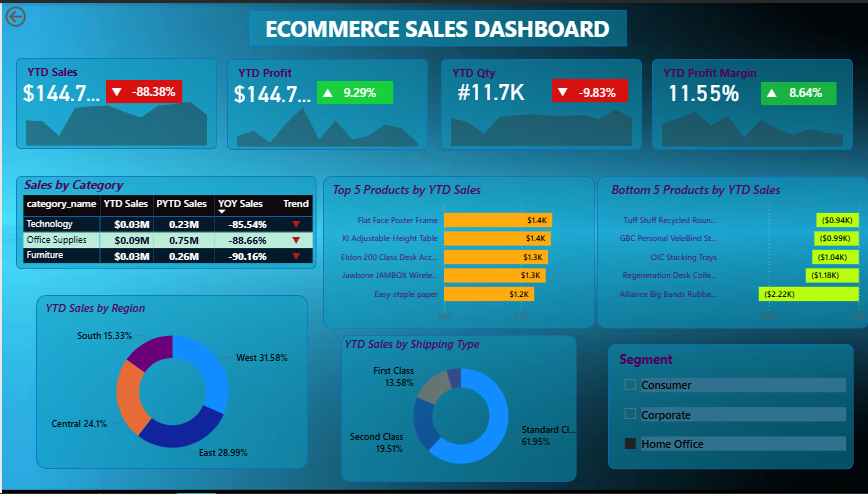

Layout of this report page (visuals, bound fields, positions):
{"tool":"powerbi","page":{"name":"Page 1","canvas":[1280,720],"ordinal":0},"visuals":[{"type":"shape","box":[361.3,10.4,557.5,53.5],"z":0},{"type":"textbox","box":[382.1,10.4,545.6,53.5],"z":1000},{"type":"shape","box":[20.6,80.8,295.3,133.7],"z":2000},{"type":"card","fields":{"Values":["ecommerce_data.YTD Sales"]},"box":[20.6,107.3,132.2,45.6],"z":3000},{"type":"areaChart","fields":{"Category":["Calendar.Month"],"Y":["Sum(ecommerce_data.sales_per_order)"]},"box":[20.6,130.8,295.3,83.8],"z":4000},{"type":"shape","box":[152.8,113.1,111.7,33.8],"z":5000},{"type":"card","fields":{"Values":["ecommerce_data.YOY Sales"]},"box":[180.7,116.1,83.8,30.9],"z":6000},{"type":"card","fields":{"Values":["ecommerce_data.Sales Icon"]},"box":[152.8,114.6,30.9,33.8],"z":7000},{"type":"textbox","box":[32.3,85.2,120.5,30.9],"z":8000},{"type":"shape","box":[330.3,82,295.3,133.7],"z":9000},{"type":"card","fields":{"Values":["ecommerce_data.YTD Profit"]},"box":[330.3,108.4,132.2,45.6],"z":10000},{"type":"areaChart","fields":{"Category":["Calendar.Month"],"Y":["Sum(ecommerce_data.profit_per_order)"]},"box":[330.3,132,295.3,83.8],"z":11000},{"type":"shape","box":[462.6,114.3,111.7,33.8],"z":12000},{"type":"card","fields":{"Values":["ecommerce_data.YOY Profit"]},"box":[490.8,117.6,70.5,30.9],"z":13000},{"type":"card","fields":{"Values":["ecommerce_data.Profit Icon"]},"box":[462.9,116.1,30.9,33.8],"z":14000},{"type":"textbox","box":[342.1,86.4,120.5,30.9],"z":15000},{"type":"shape","box":[644.5,81.7,295.3,133.7],"z":16000},{"type":"card","fields":{"Values":["ecommerce_data.YTD Conacatenated"]},"box":[645.1,108.7,146.9,39.7],"z":17000},{"type":"areaChart","fields":{"Category":["Calendar.Month"],"Y":["Sum(ecommerce_data.order_quantity)"]},"box":[644.5,131.7,295.3,83.8],"z":18000},{"type":"shape","box":[808.2,111.7,111.7,33.8],"z":19000},{"type":"card","fields":{"Values":["ecommerce_data.YOY Qty"]},"box":[839,117.6,70.5,30.9],"z":20000},{"type":"card","fields":{"Values":["ecommerce_data.Qty Icon"]},"box":[808.2,114.6,30.9,33.8],"z":21000},{"type":"textbox","box":[656.2,86.1,120.5,30.9],"z":22000},{"type":"shape","box":[955.7,82.9,295.3,133.7],"z":23000},{"type":"card","fields":{"Values":["ecommerce_data.YTD Profit Margin"]},"box":[956.3,109.9,146.9,39.7],"z":24000},{"type":"areaChart","fields":{"Category":["Calendar.Month"],"Y":["ecommerce_data.Profit Margin"]},"box":[955.7,132.9,295.3,83.8],"z":25000},{"type":"shape","box":[1115,116,111.5,34.2],"z":26000},{"type":"card","fields":{"Values":["ecommerce_data.YOY Profit Margin"]},"box":[1146.2,117.4,69.9,31.2],"z":27000},{"type":"card","fields":{"Values":["ecommerce_data.Profit Margin Icon"]},"box":[1115,116,31.2,34.2],"z":28000},{"type":"textbox","box":[966.9,86.7,167.5,30.9],"z":29000},{"type":"actionButton","box":[0,0,100,40],"z":30000},{"type":"shape","box":[20.8,254.2,441.5,136.8],"z":31000},{"type":"pivotTable","title":"Sales by Category","fields":{"Rows":["ecommerce_data.category_name"],"Values":["ecommerce_data.YTD Sales","ecommerce_data.PYTD Sales","ecommerce_data.YOY Sales","ecommerce_data.Sales Icon"]},"box":[26.8,254.2,463.8,163.5],"z":32000},{"type":"shape","box":[471.3,254.2,399.9,224.5],"z":33000},{"type":"barChart","title":"Top 5 Products by YTD Sales","fields":{"Category":["ecommerce_data.product_name"],"Y":["ecommerce_data.YTD Sales"]},"box":[480.2,261.6,383.6,217],"z":34000},{"type":"shape","box":[874.1,254.2,399.9,224.5],"z":35000},{"type":"barChart","title":"Bottom 5 Products by YTD Sales","fields":{"Category":["ecommerce_data.product_name"],"Y":["ecommerce_data.YTD Sales"]},"box":[890.5,261.6,383.6,217],"z":35001},{"type":"shape","box":[50.5,429.6,399.9,255.7],"z":35002},{"type":"donutChart","title":"YTD Sales by  Region","fields":{"Category":["ecommerce_data.customer_region"],"Y":["ecommerce_data.YTD Sales"]},"box":[59.5,437.1,383.6,248.3],"z":35003},{"type":"shape","box":[498,487.6,346.4,215.6],"z":35004},{"type":"donutChart","title":"YTD Sales by  Shipping Type","fields":{"Y":["ecommerce_data.YTD Sales"],"Category":["ecommerce_data.shipping_type"]},"box":[498,489.1,352.3,214.1],"z":35005},{"type":"shape","box":[890.5,501,361.3,184.3],"z":35006},{"type":"slicer","title":" Segment","fields":{"Values":["ecommerce_data.customer_segment"]},"box":[902.4,509.9,343.4,165],"z":35007}]}

Visuals, with their boxes in screenshot pixels (x1, y1, x2, y2), scaled from the page's 1280x720 canvas onto the 868x494 screenshot:
shape: Rect(245, 7, 623, 44)
textbox: Rect(259, 7, 629, 44)
shape: Rect(14, 55, 214, 147)
card - ecommerce_data.YTD Sales: Rect(14, 74, 104, 105)
areaChart - Calendar.Month x Sum(ecommerce_data.sales_per_order): Rect(14, 90, 214, 147)
shape: Rect(104, 78, 179, 101)
card - ecommerce_data.YOY Sales: Rect(123, 80, 179, 101)
card - ecommerce_data.Sales Icon: Rect(104, 79, 125, 102)
textbox: Rect(22, 58, 104, 80)
shape: Rect(224, 56, 424, 148)
card - ecommerce_data.YTD Profit: Rect(224, 74, 314, 106)
areaChart - Calendar.Month x Sum(ecommerce_data.profit_per_order): Rect(224, 91, 424, 148)
shape: Rect(314, 78, 389, 102)
card - ecommerce_data.YOY Profit: Rect(333, 81, 381, 102)
card - ecommerce_data.Profit Icon: Rect(314, 80, 335, 103)
textbox: Rect(232, 59, 314, 80)
shape: Rect(437, 56, 637, 148)
card - ecommerce_data.YTD Conacatenated: Rect(437, 75, 537, 102)
areaChart - Calendar.Month x Sum(ecommerce_data.order_quantity): Rect(437, 90, 637, 148)
shape: Rect(548, 77, 624, 100)
card - ecommerce_data.YOY Qty: Rect(569, 81, 617, 102)
card - ecommerce_data.Qty Icon: Rect(548, 79, 569, 102)
textbox: Rect(445, 59, 527, 80)
shape: Rect(648, 57, 848, 149)
card - ecommerce_data.YTD Profit Margin: Rect(648, 75, 748, 103)
areaChart - Calendar.Month x ecommerce_data.Profit Margin: Rect(648, 91, 848, 149)
shape: Rect(756, 80, 832, 103)
card - ecommerce_data.YOY Profit Margin: Rect(777, 81, 825, 102)
card - ecommerce_data.Profit Margin Icon: Rect(756, 80, 777, 103)
textbox: Rect(656, 59, 769, 81)
actionButton: Rect(0, 0, 68, 27)
shape: Rect(14, 174, 313, 268)
"Sales by Category" pivotTable: Rect(18, 174, 333, 287)
shape: Rect(320, 174, 591, 328)
"Top 5 Products by YTD Sales" barChart: Rect(326, 179, 586, 328)
shape: Rect(593, 174, 864, 328)
"Bottom 5 Products by YTD Sales" barChart: Rect(604, 179, 864, 328)
shape: Rect(34, 295, 305, 470)
"YTD Sales by  Region" donutChart: Rect(40, 300, 300, 470)
shape: Rect(338, 335, 573, 482)
"YTD Sales by  Shipping Type" donutChart: Rect(338, 336, 577, 482)
shape: Rect(604, 344, 849, 470)
" Segment" slicer: Rect(612, 350, 845, 463)
